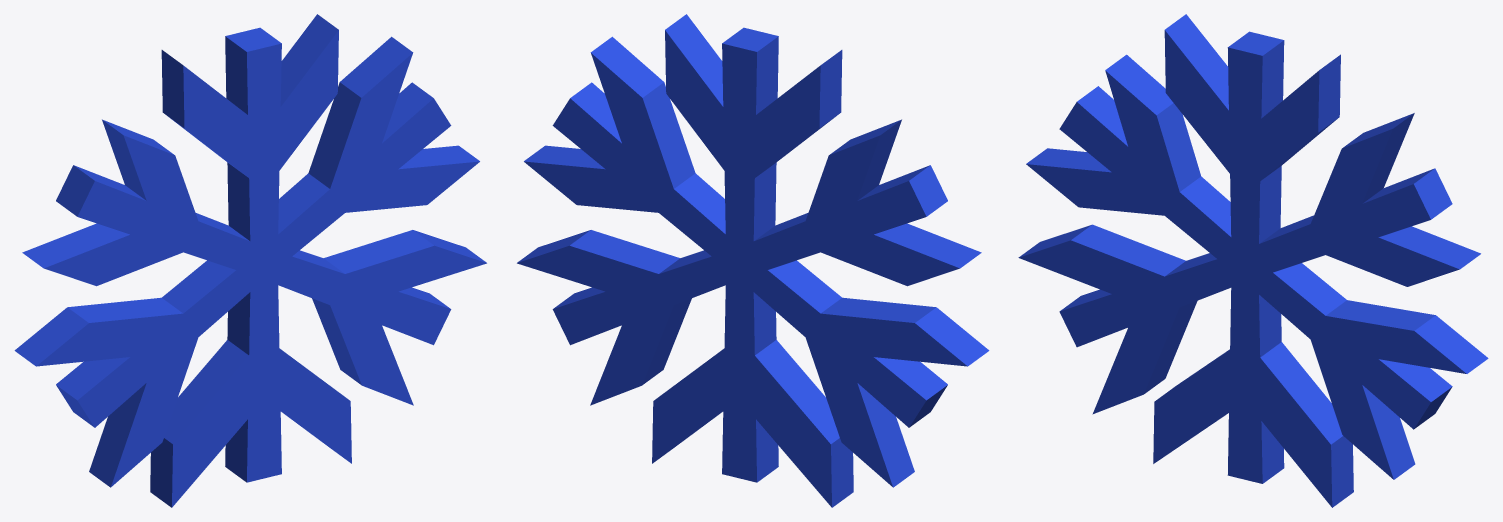
Rendered from ammo.fbx.
3 views of the same model, side by side, from view 1: azimuth 30°, elevation 25°; view 2: azimuth 150°, elevation 25°; view 3: azimuth 330°, elevation 25° (orthographic).
Parts seen in each view (by area): view 1: Circle; view 2: Circle; view 3: Circle.
Part boxes in pixels (x1,y1,x2,y2): Circle: (14, 14, 486, 507); Circle: (517, 14, 989, 507); Circle: (1018, 14, 1488, 507).
Bounding box in the file's own units: 104 × 96.76 × 8.65.
